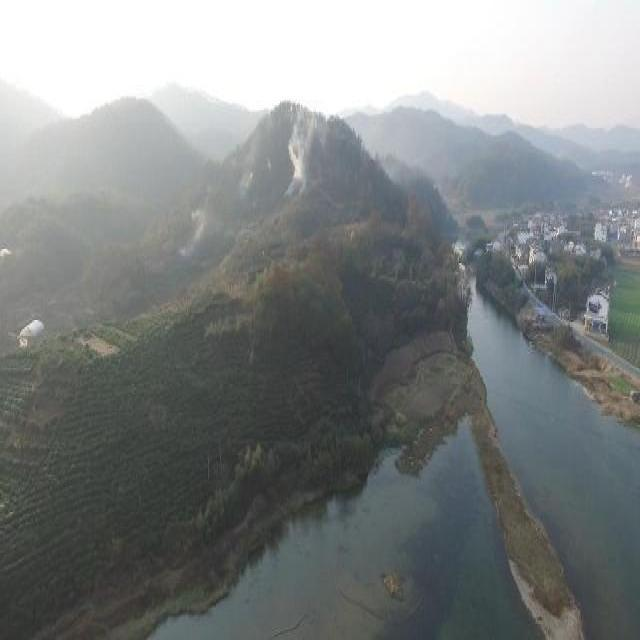Smoke: (284, 103, 328, 196), (178, 204, 209, 260)
